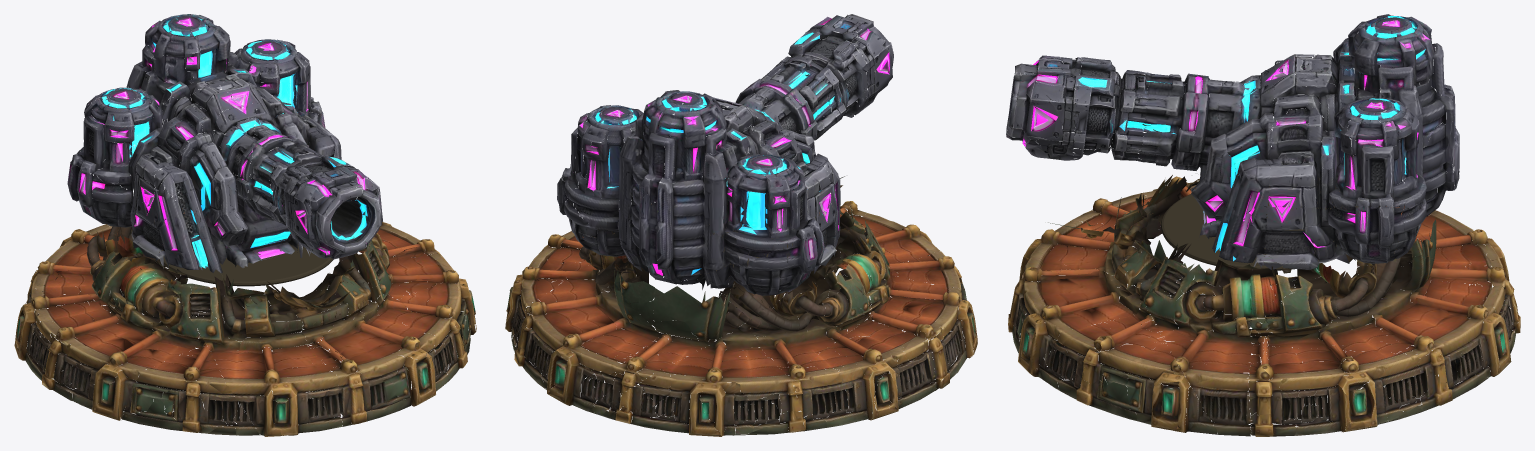
Rendered from warrior-6-tier-2.glb.
The picture shows the model from 3 angles, left to right: view 1: azimuth 30°, elevation 25°; view 2: azimuth 150°, elevation 25°; view 3: azimuth 270°, elevation 25°; orthographic projection. The views are drawn at different scales.
Visible parts, largest first — view 1: fixed-platform, moving-assembly, brass-transition-bearing; view 2: fixed-platform, moving-assembly; view 3: fixed-platform, moving-assembly, brass-transition-bearing.
Boxes of the visible parts, x1,y1,x2,y2 form: fixed-platform: [14, 177, 476, 436]; moving-assembly: [67, 14, 382, 273]; brass-transition-bearing: [158, 213, 336, 286]; fixed-platform: [505, 176, 977, 436]; moving-assembly: [557, 14, 893, 295]; fixed-platform: [1008, 175, 1520, 436]; moving-assembly: [1006, 14, 1459, 270]; brass-transition-bearing: [1161, 186, 1358, 270].
Size of the model in its own units: 1.66 by 1.1 by 1.66.
5 materials, 4 textured.
